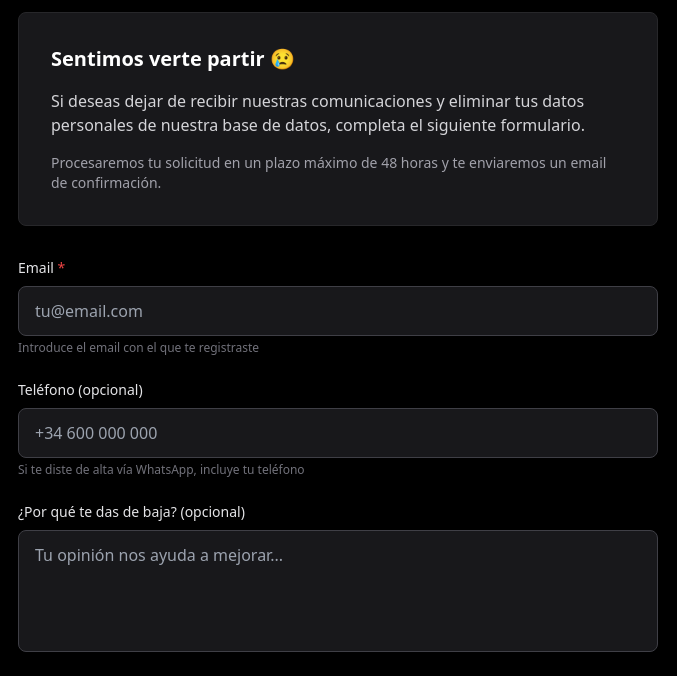
it: unsubscribe form › shows an error and the email fallback when the request is not stored
Type "ana@example.com" into the field labelled "Email *" at (338, 311), box [18,286,658,336]
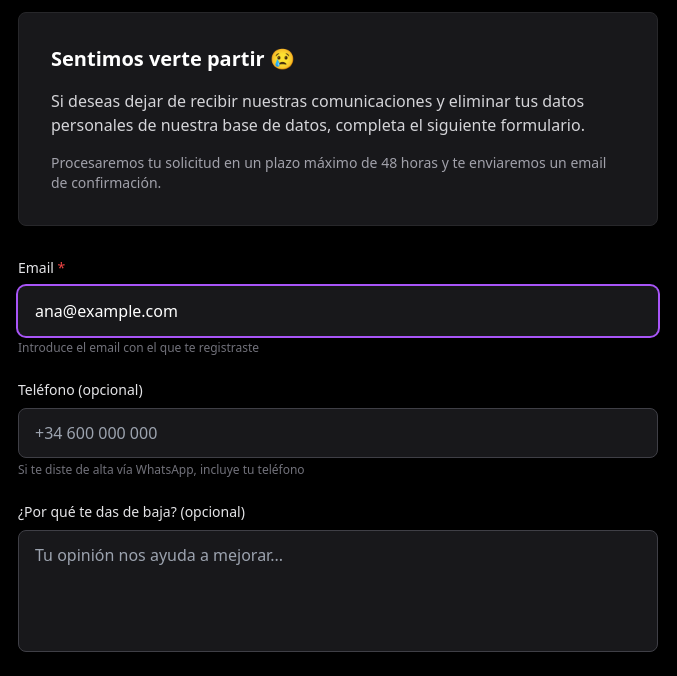
Type "+34600111222" into the field labelled "Teléfono (opcional)" at (338, 433), box [18,408,658,458]
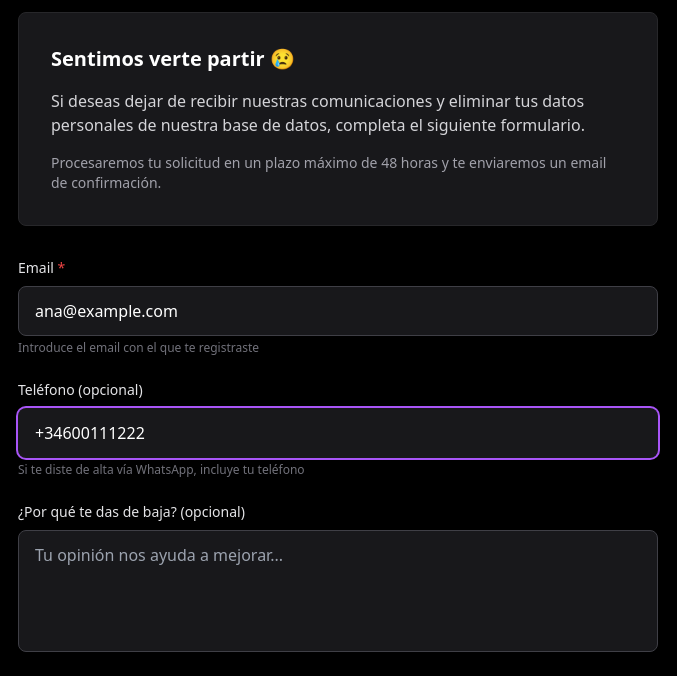
Type "Ya no me interesa" into the text box labelled "¿Por qué te das de baja? (opcional)" at (338, 591), box [18,530,658,652]
(page scrolled)
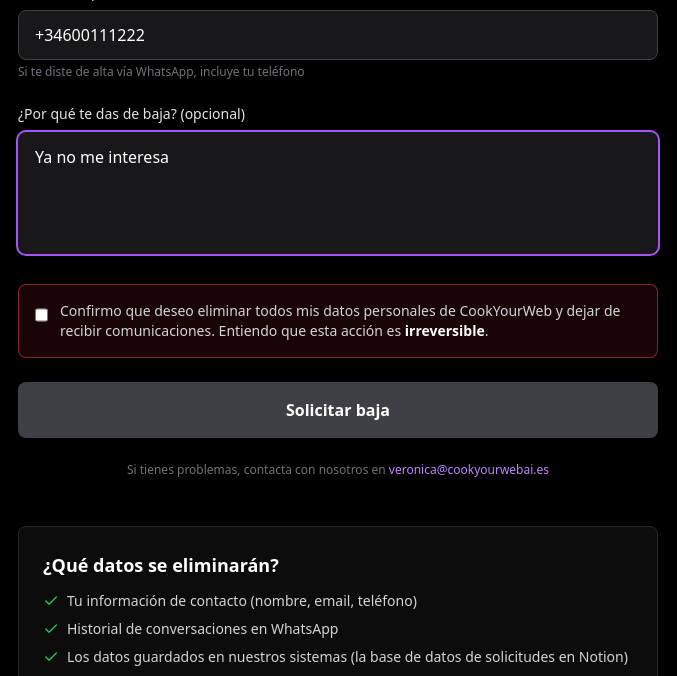
Click the checkbox labelled "Confirmo que deseo eliminar" at (42, 315), box [35,305,48,325]
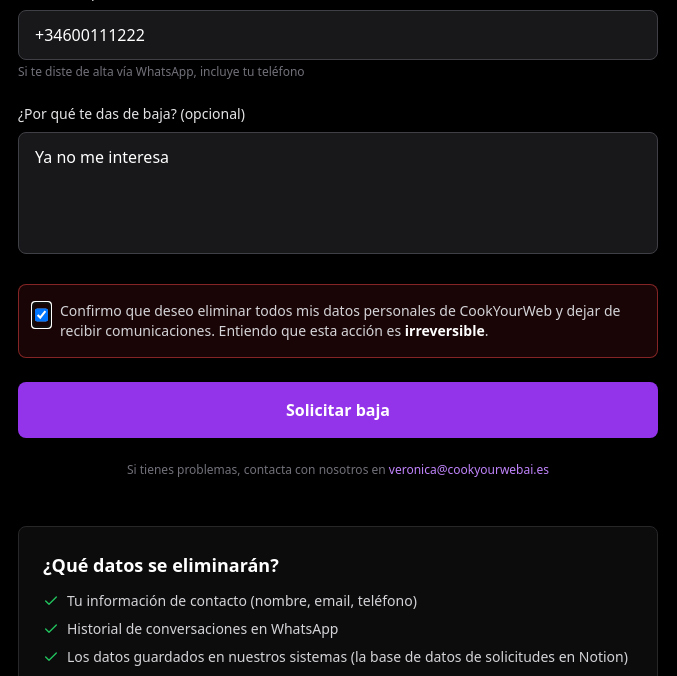
Click the button "Solicitar baja" at (338, 410), box [18,382,658,438]
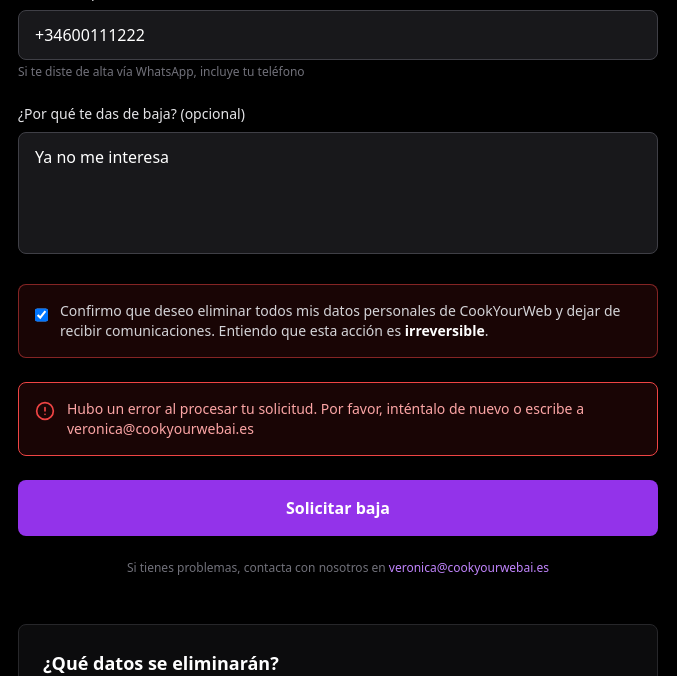
Check: the text "Hubo un error al procesar tu solicitud" is shown, box [67,399,584,438]
